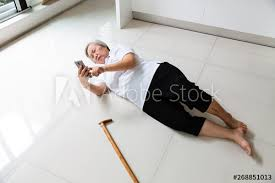falling: (75, 38, 254, 159)
